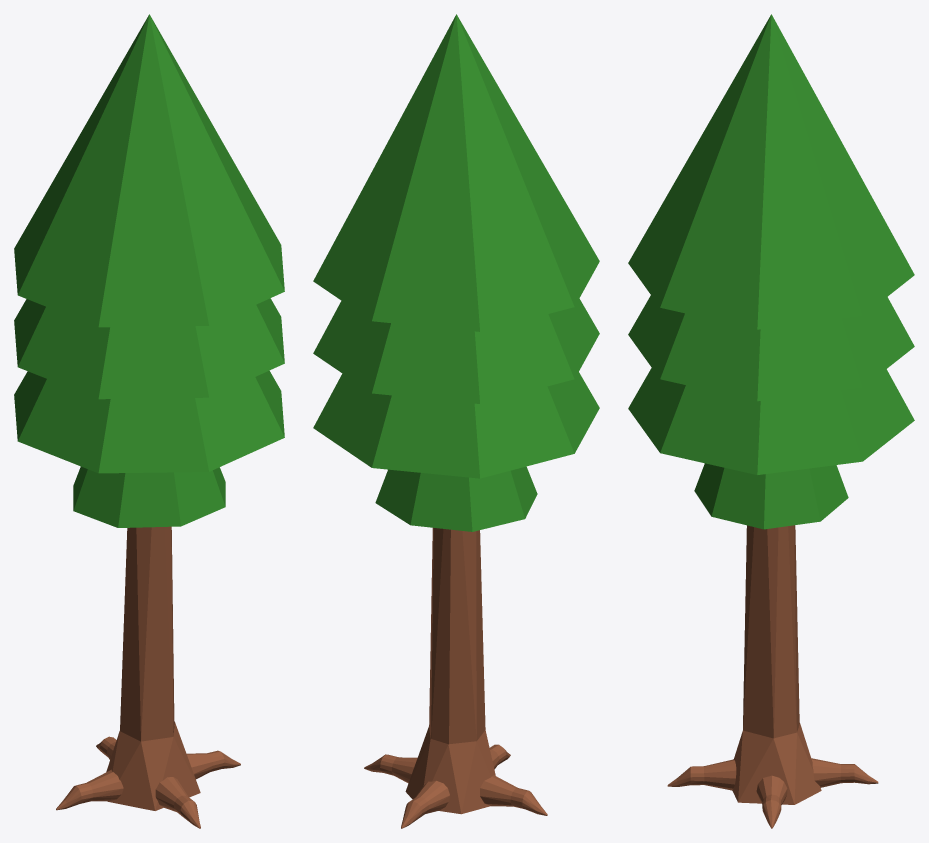
File: tree.fbx
3 views of the same model, side by side, from view 1: azimuth 30°, elevation 25°; view 2: azimuth 150°, elevation 25°; view 3: azimuth 270°, elevation 25° (orthographic).
Visible parts, largest first — view 1: tree; view 2: tree; view 3: tree.
Boxes of the visible parts, left/top/right/bottom form: tree: left=14, top=14, right=284, bottom=828; tree: left=313, top=14, right=599, bottom=828; tree: left=628, top=14, right=914, bottom=828.
Size of the model in its own units: 72.98 by 218 by 72.98.
